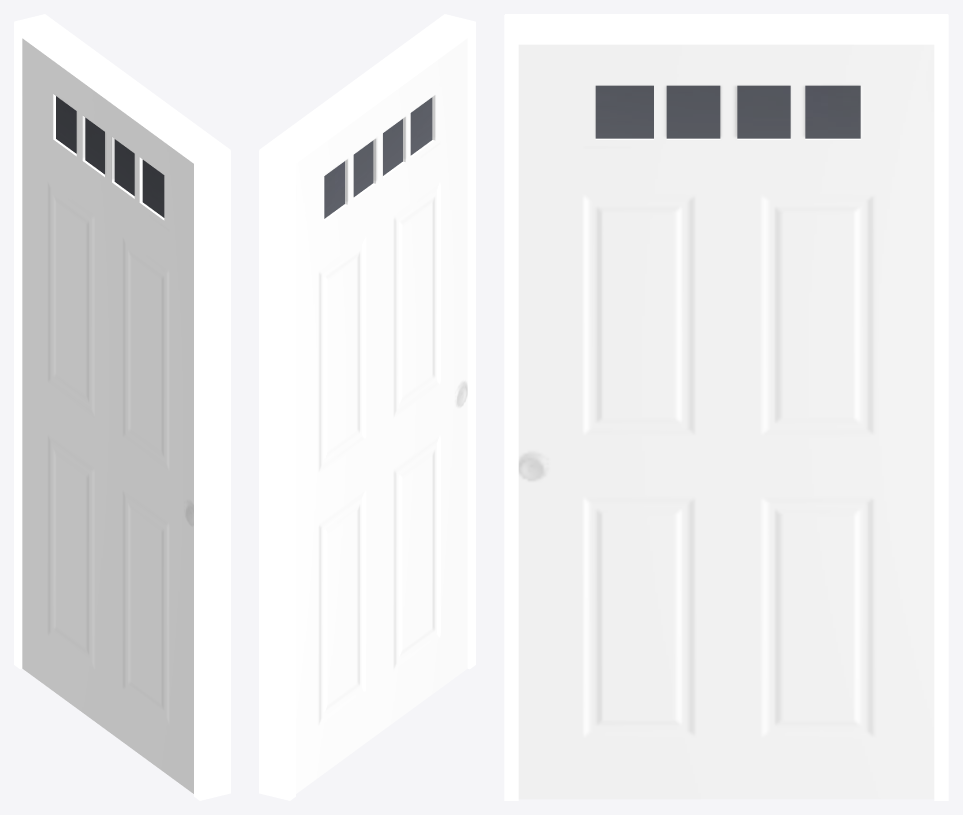
Rendered from 4_lite_walkin.98964e8c.gltf.
3 views of the same model, side by side, from view 1: azimuth 30°, elevation 25°; view 2: azimuth 150°, elevation 25°; view 3: azimuth 270°, elevation 25° (orthographic). The views are drawn at different scales.
Visible parts, largest first — view 1: door, trims, Glass; view 2: door, trims, Glass; view 3: door, trims, Glass.
Part boxes in pixels (x1,y1,x2,y2): door: (22, 38, 193, 793); trims: (14, 14, 230, 800); Glass: (56, 96, 164, 217); door: (296, 38, 467, 793); trims: (259, 14, 475, 800); Glass: (324, 97, 432, 218); door: (518, 44, 934, 799); trims: (504, 14, 948, 800); Glass: (595, 85, 860, 138).
Size of the model in its own units: 0.302 by 6.01 by 3.14.
Materials: 3 (2 with a texture image).
